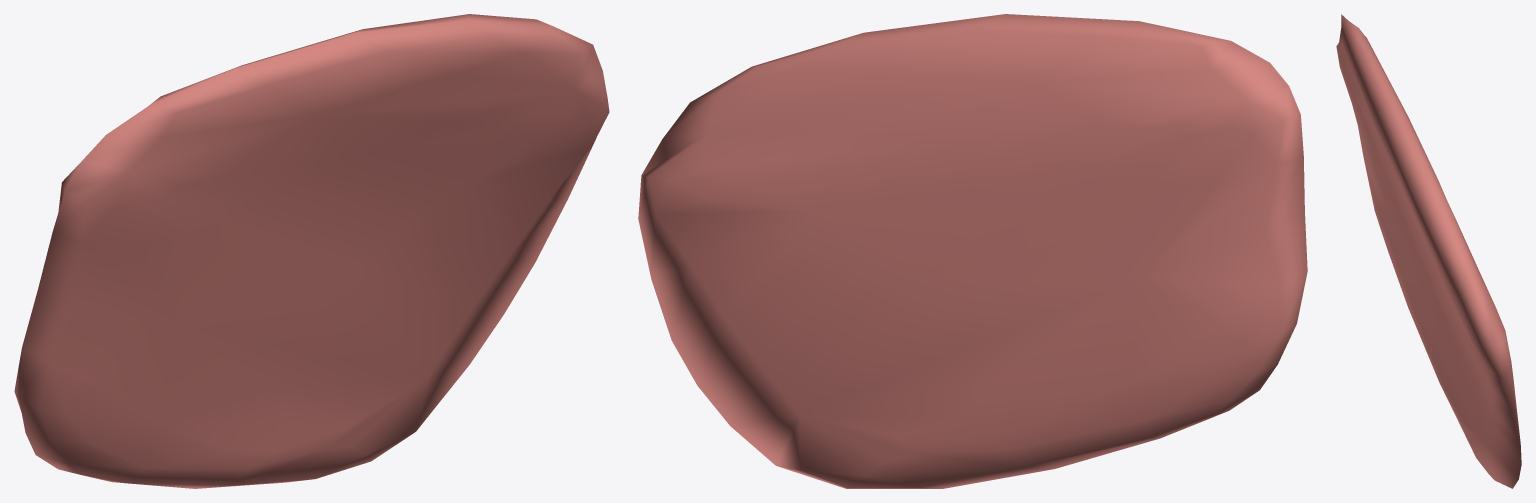
3 renders of one model, left to right at view 1: azimuth 30°, elevation 25°; view 2: azimuth 150°, elevation 25°; view 3: azimuth 270°, elevation 25°, orthographic. The views are drawn at different scales.
Visible parts, largest first — view 1: ZA_dc5d565e7952fd33; view 2: ZA_dc5d565e7952fd33; view 3: ZA_dc5d565e7952fd33.
Boxes of the visible parts, x1=… form: ZA_dc5d565e7952fd33: x1=14, y1=14, x2=609, y2=488; ZA_dc5d565e7952fd33: x1=638, y1=14, x2=1307, y2=488; ZA_dc5d565e7952fd33: x1=1336, y1=14, x2=1521, y2=488.
Bounding box in the file's own units: 0.0071 × 0.00523 × 0.00248.
